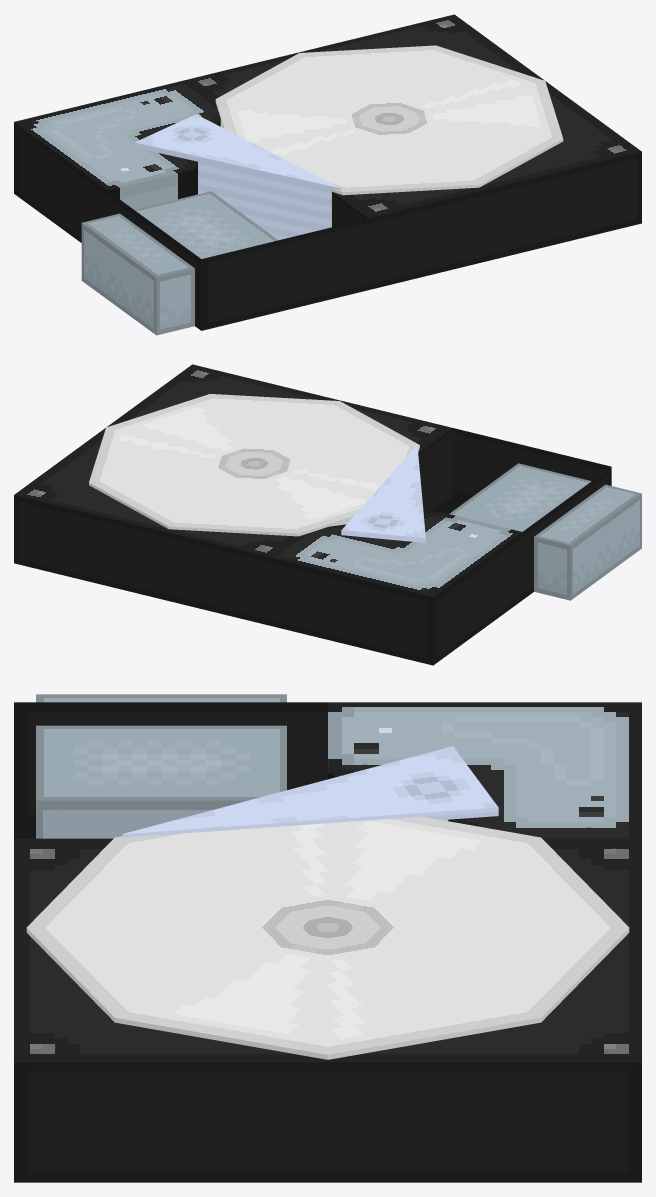
The model's file is hdd.caa7427b.glb.
3 views of the same model, one above another, from view 1: azimuth 30°, elevation 25°; view 2: azimuth 150°, elevation 25°; view 3: azimuth 270°, elevation 25° (orthographic). The views are drawn at different scales.
Visible parts, largest first — view 1: Cube, Cube.002, Cube.001; view 2: Cube, Cube.002, Cube.001; view 3: Cube, Cube.002, Cube.001.
Part boxes in pixels (x1,y1,x2,y2): Cube: (14,14,641,330); Cube.002: (81,191,277,335); Cube.001: (134,114,340,240); Cube: (14,364,611,665); Cube.002: (449,463,641,600); Cube.001: (341,445,425,542); Cube: (14,702,641,1182); Cube.002: (36,694,286,838); Cube.001: (122,746,498,837).
Size of the model in its own units: 3.69 by 0.5661 by 2.5.
1 material, 1 textured.
